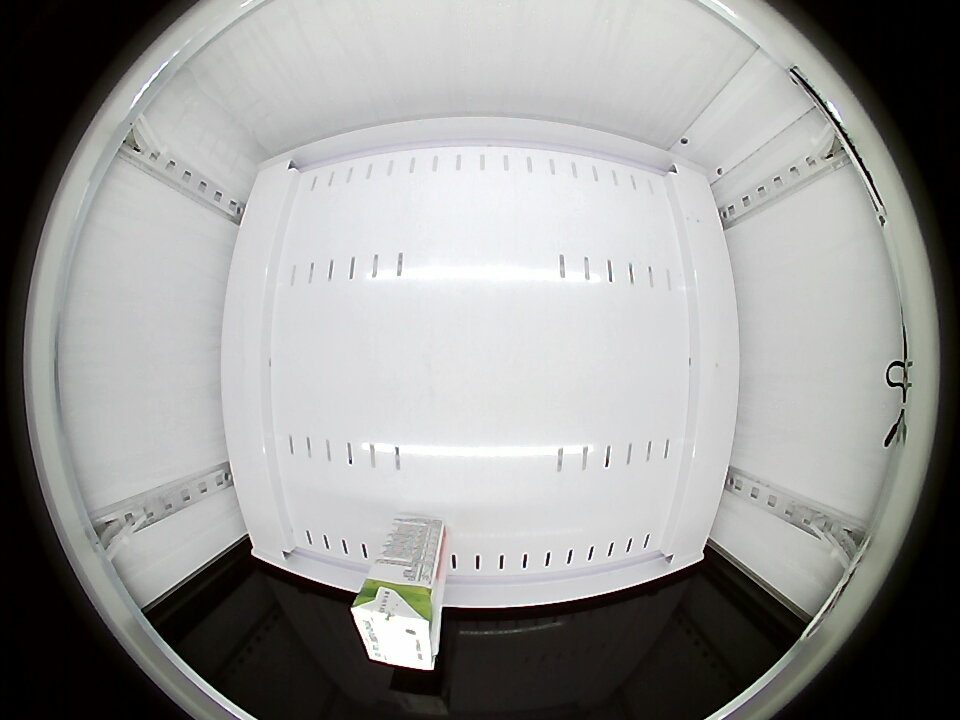mengniu: (351, 581, 439, 671)
